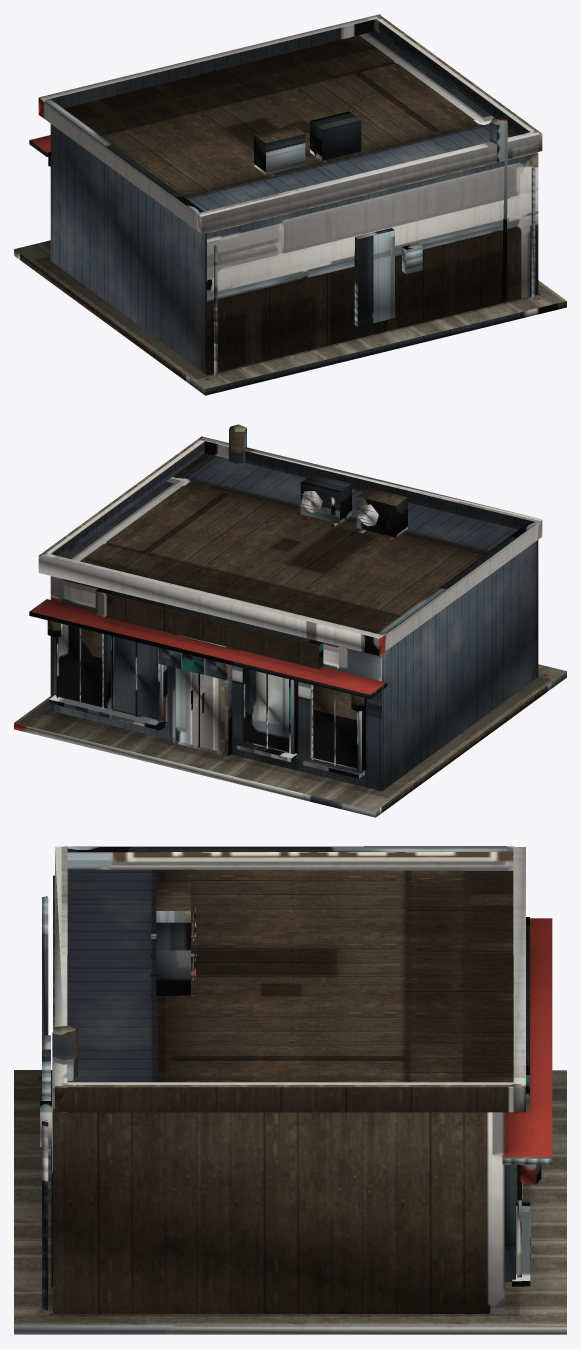
Rendered from shop_004.lod1.obj.
3 views of the same model, one above another, from view 1: azimuth 30°, elevation 25°; view 2: azimuth 150°, elevation 25°; view 3: azimuth 270°, elevation 25° (orthographic). The views are drawn at different scales.
Parts seen in each view (by area): view 1: shop_004; view 2: shop_004; view 3: shop_004.
Part boxes in pixels (x1=…): shop_004: x1=14, y1=14, x2=566, y2=395; shop_004: x1=14, y1=424, x2=566, y2=817; shop_004: x1=14, y1=846, x2=566, y2=1334.
Bounding box in the file's own units: 7.75 × 3.88 × 7.1.
1 material, 1 textured.
